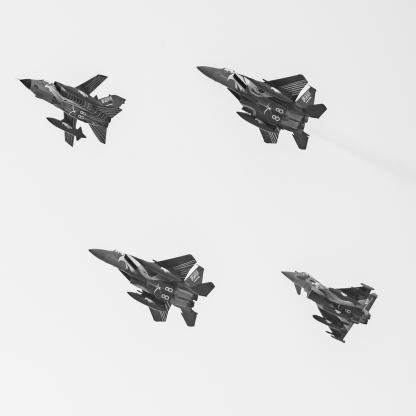EF2000: (282, 272, 379, 344)
F15: (197, 67, 328, 151), (89, 250, 216, 328)
Tornado: (16, 76, 127, 149)
